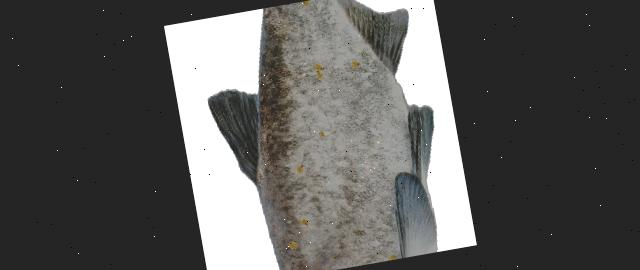Parasitic Disease: (208, 0, 436, 270), (208, 0, 436, 270)
